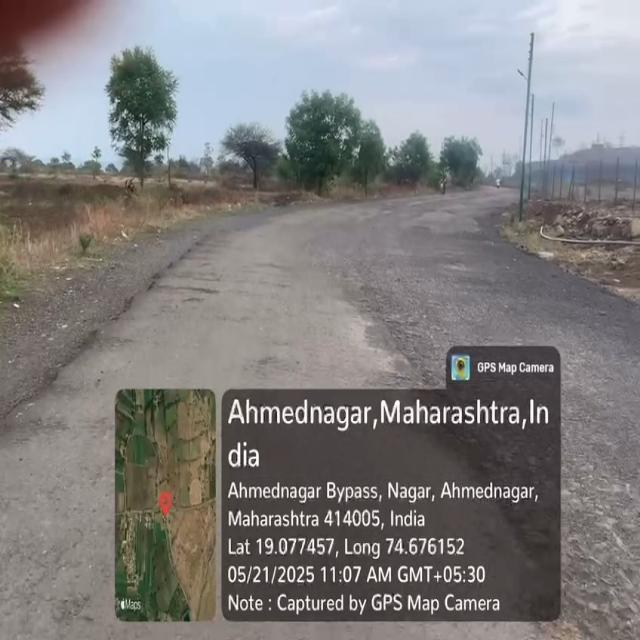damage surface: (157, 268, 215, 308)
